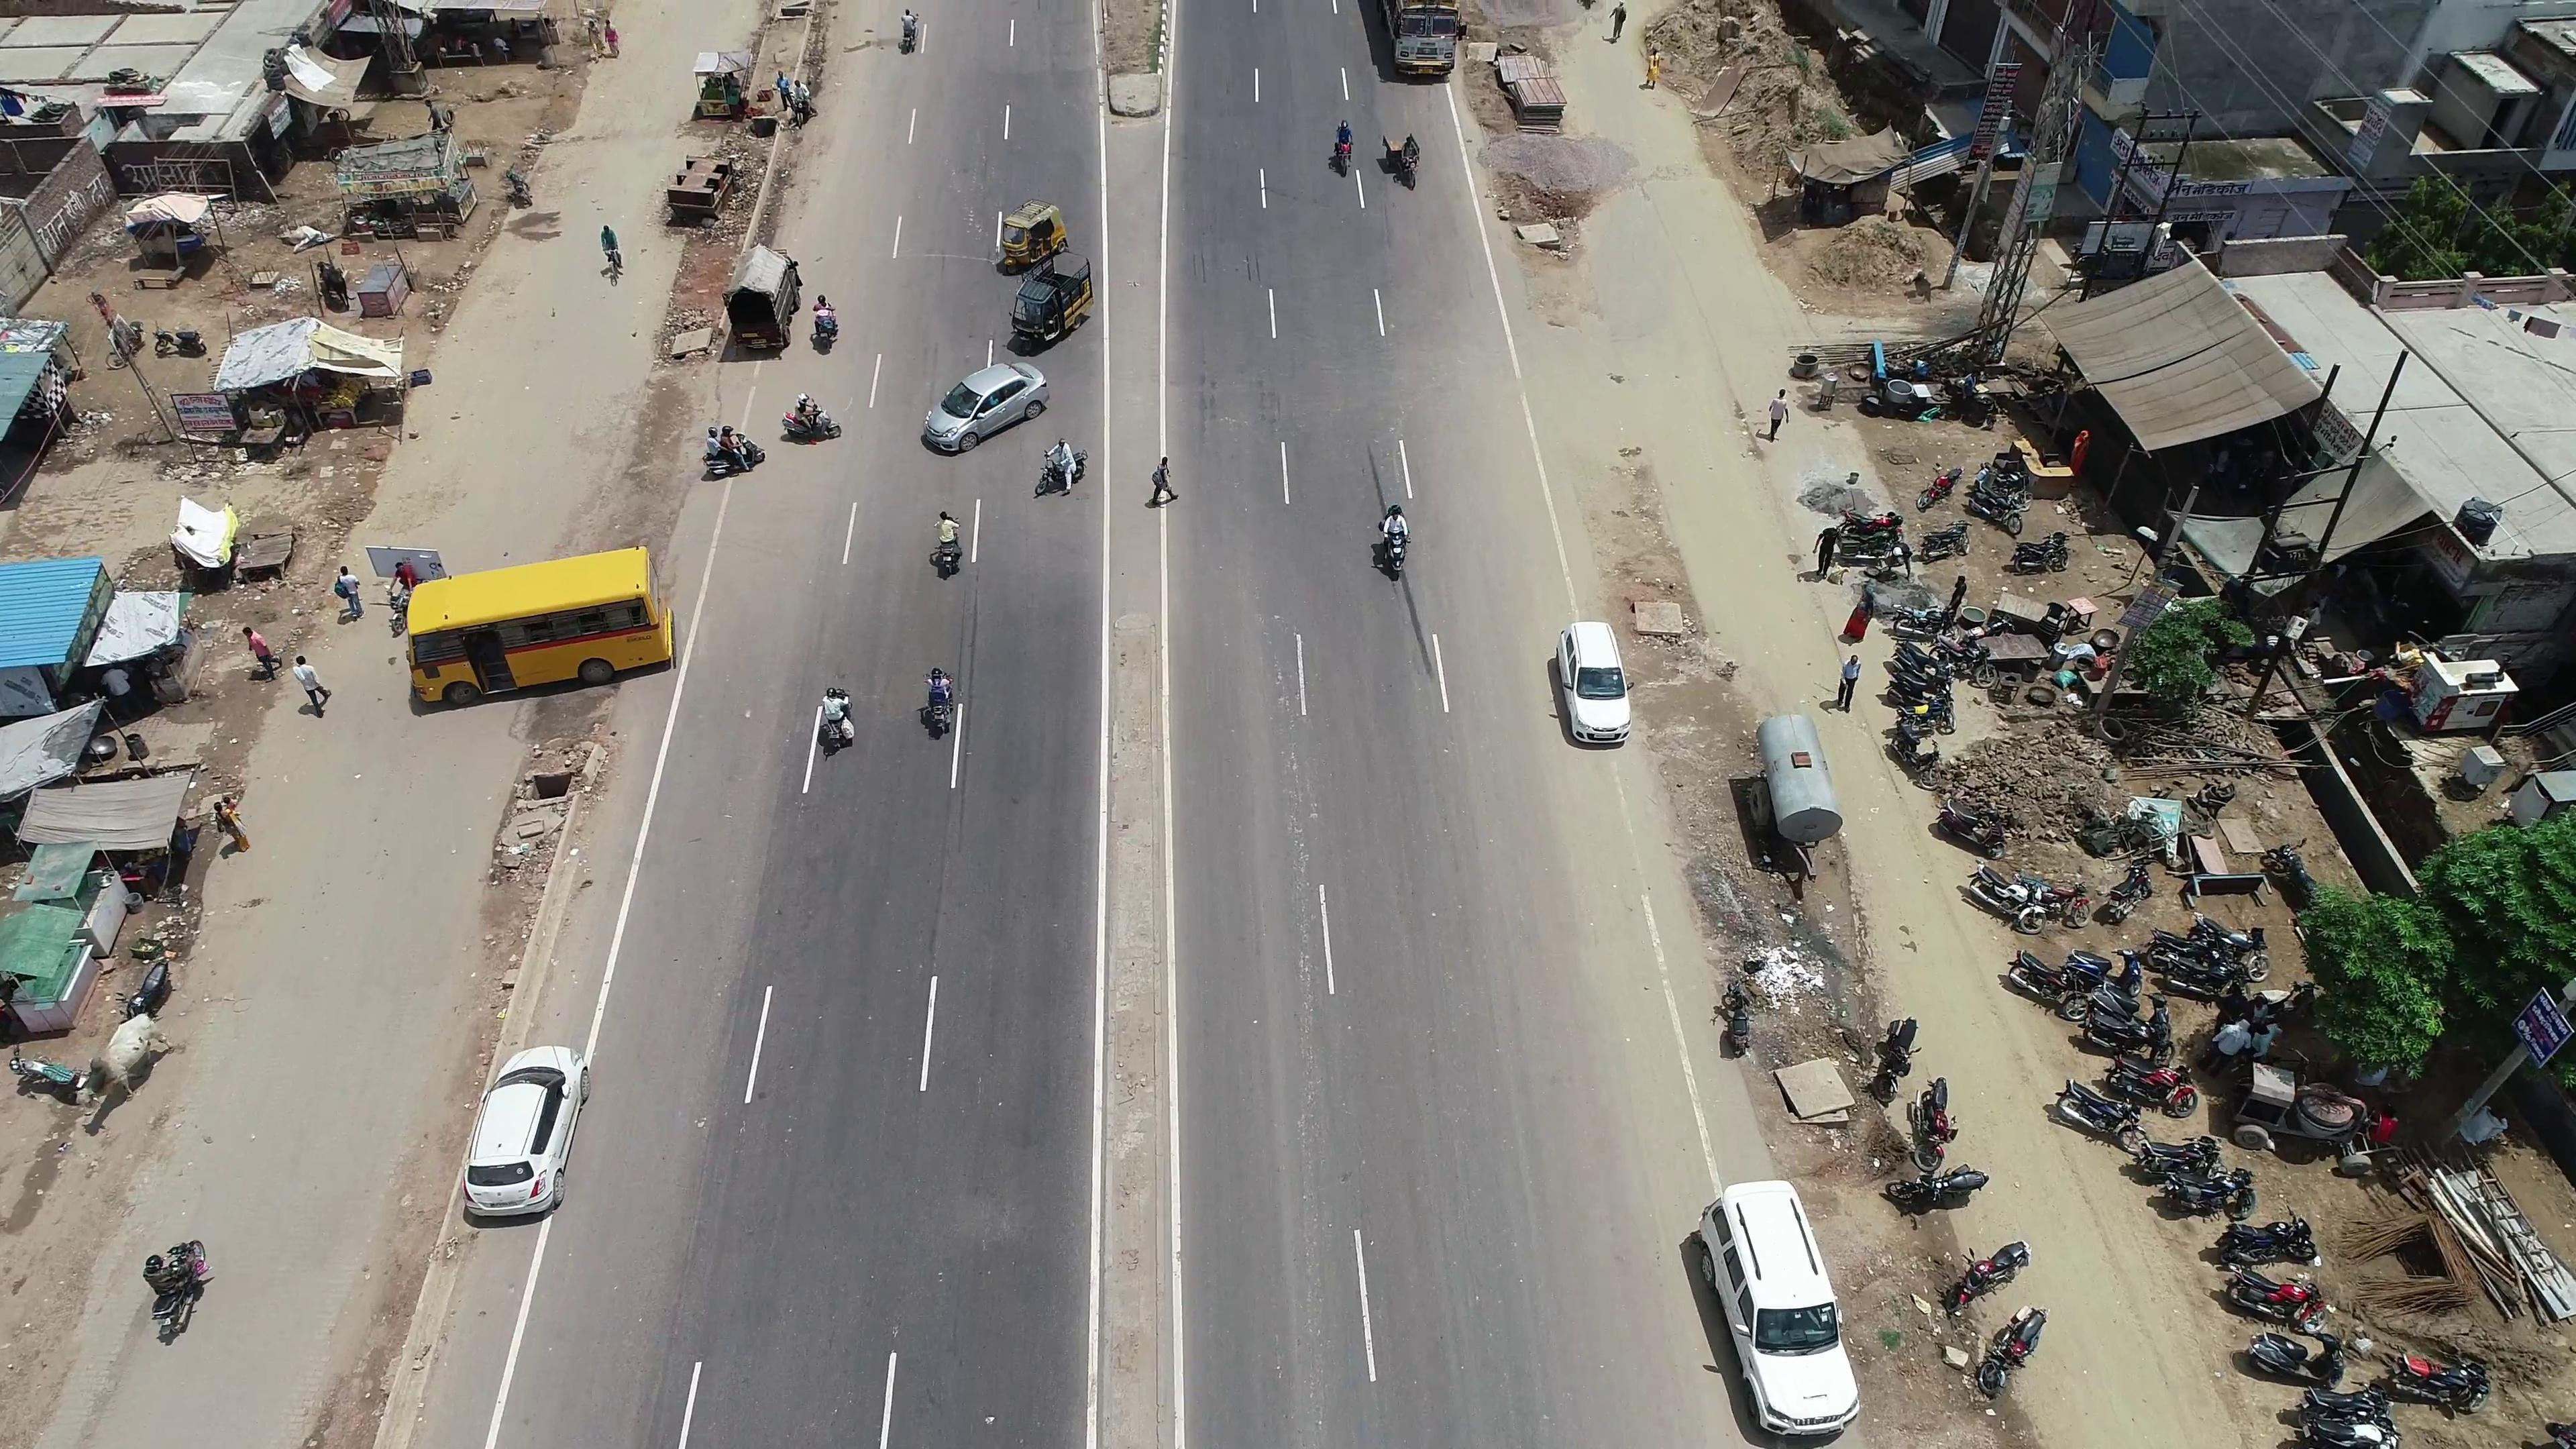Ravelling: (1263, 655, 1313, 977)
